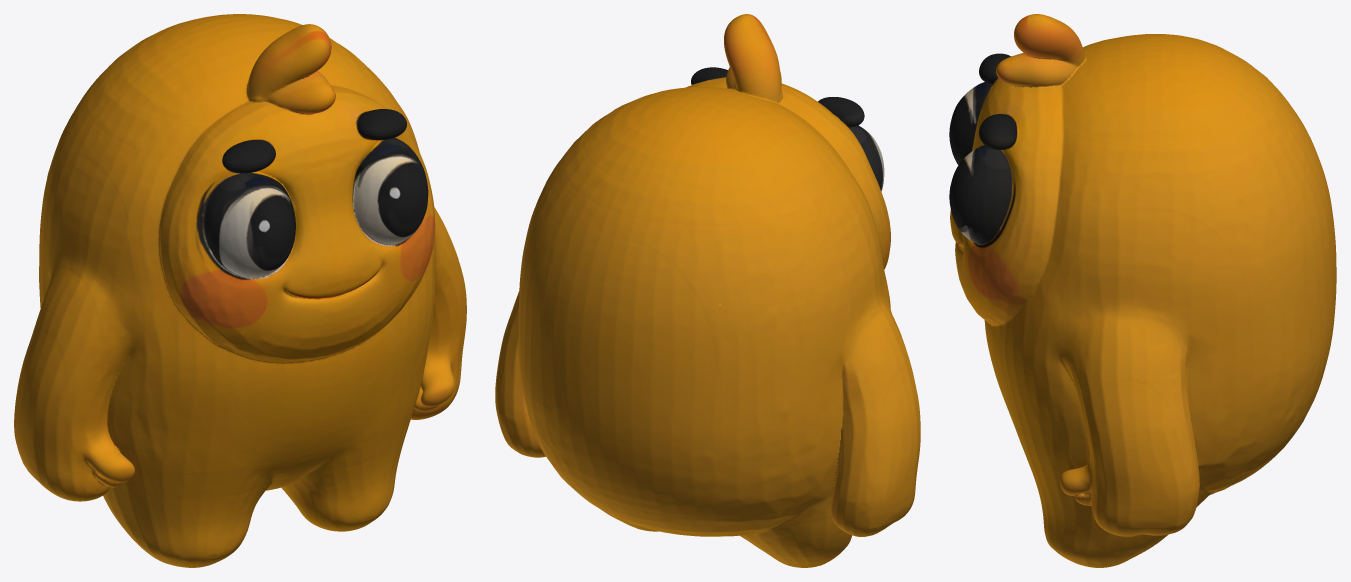
Rendered from cute+yellow+creature+3d+model.glb.
3 views of the same model, side by side, from view 1: azimuth 30°, elevation 25°; view 2: azimuth 150°, elevation 25°; view 3: azimuth 270°, elevation 25° (orthographic). The views are drawn at different scales.
Visible parts, largest first — view 1: tripo_node_4ec244b0-6160-45f8-bf50-7f35086eadd1; view 2: tripo_node_4ec244b0-6160-45f8-bf50-7f35086eadd1; view 3: tripo_node_4ec244b0-6160-45f8-bf50-7f35086eadd1.
Part boxes in pixels (x1=…): tripo_node_4ec244b0-6160-45f8-bf50-7f35086eadd1: x1=14, y1=14, x2=466, y2=567; tripo_node_4ec244b0-6160-45f8-bf50-7f35086eadd1: x1=495, y1=14, x2=920, y2=567; tripo_node_4ec244b0-6160-45f8-bf50-7f35086eadd1: x1=949, y1=14, x2=1336, y2=567.
Size of the model in its own units: 0.8402 by 1 by 0.6785.
Materials: 1 (1 with a texture image).
